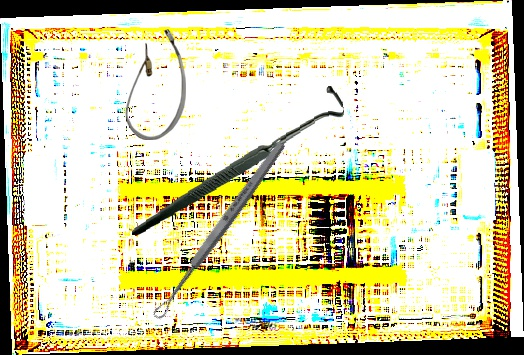Cannula: (125, 29, 186, 140)
Hook Surgical: (122, 85, 352, 236)
Surgical Spoon: (150, 139, 288, 322)
